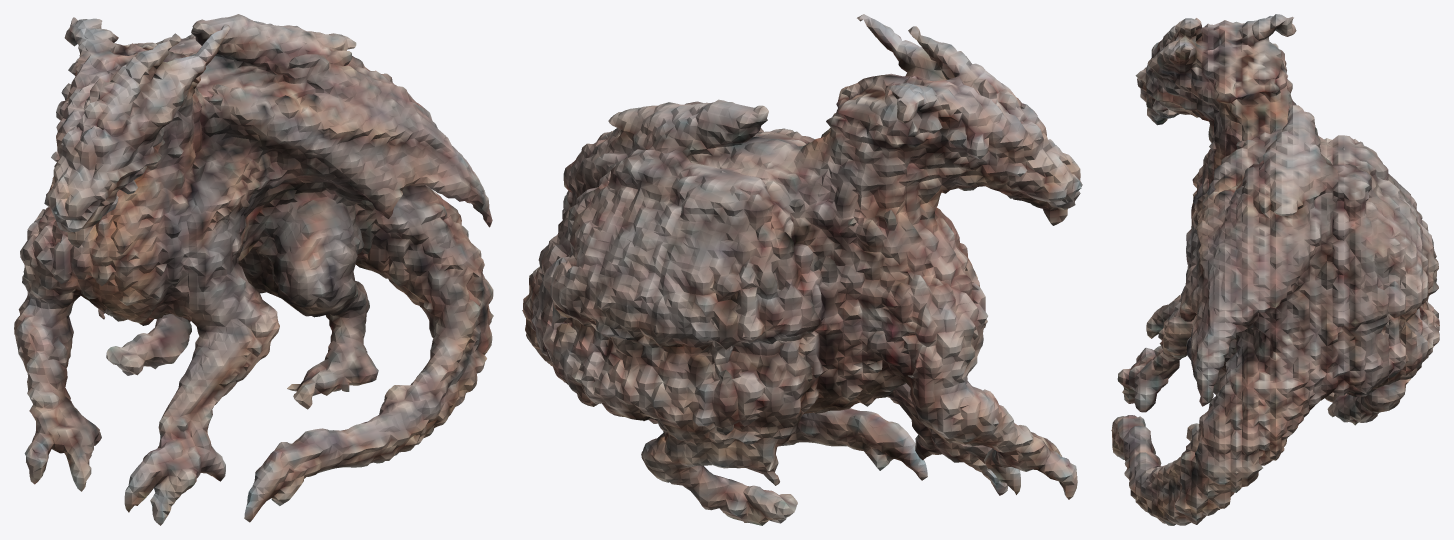
The model's file is wyrm.glb.
3 views of the same model, side by side, from view 1: azimuth 30°, elevation 25°; view 2: azimuth 150°, elevation 25°; view 3: azimuth 270°, elevation 25° (orthographic). The views are drawn at different scales.
Parts seen in each view (by area): view 1: geometry_0; view 2: geometry_0; view 3: geometry_0.
Boxes of the visible parts, x1,y1,x2,y2 form: geometry_0: (14,14,493,525); geometry_0: (522,14,1082,525); geometry_0: (1111,14,1439,525).
Size of the model in its own units: 1.02 by 0.9433 by 0.6786.
